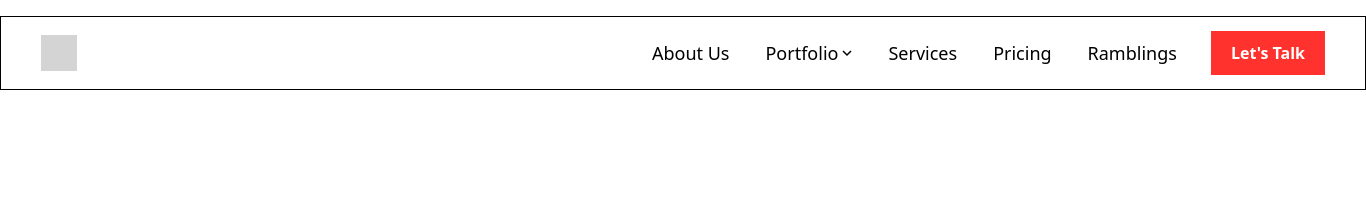
Scenario: Escape closes the dropdown
Click the button "Portfolio".
click(809, 53)  # box [756,29,862,77]
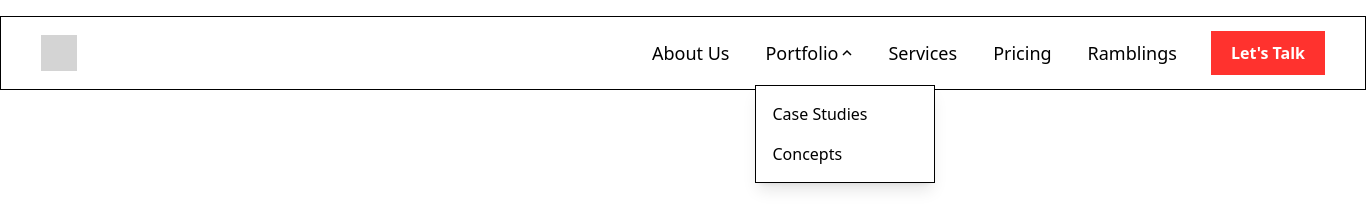
Press Escape
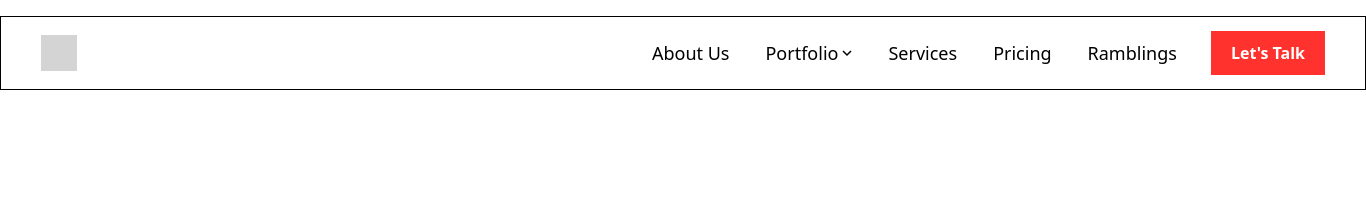
Now the button "Portfolio" is collapsed, box [756,29,862,77]
Now the link "Concepts" is gone
